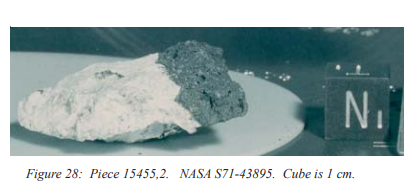Breccia: (17, 41, 254, 144)
